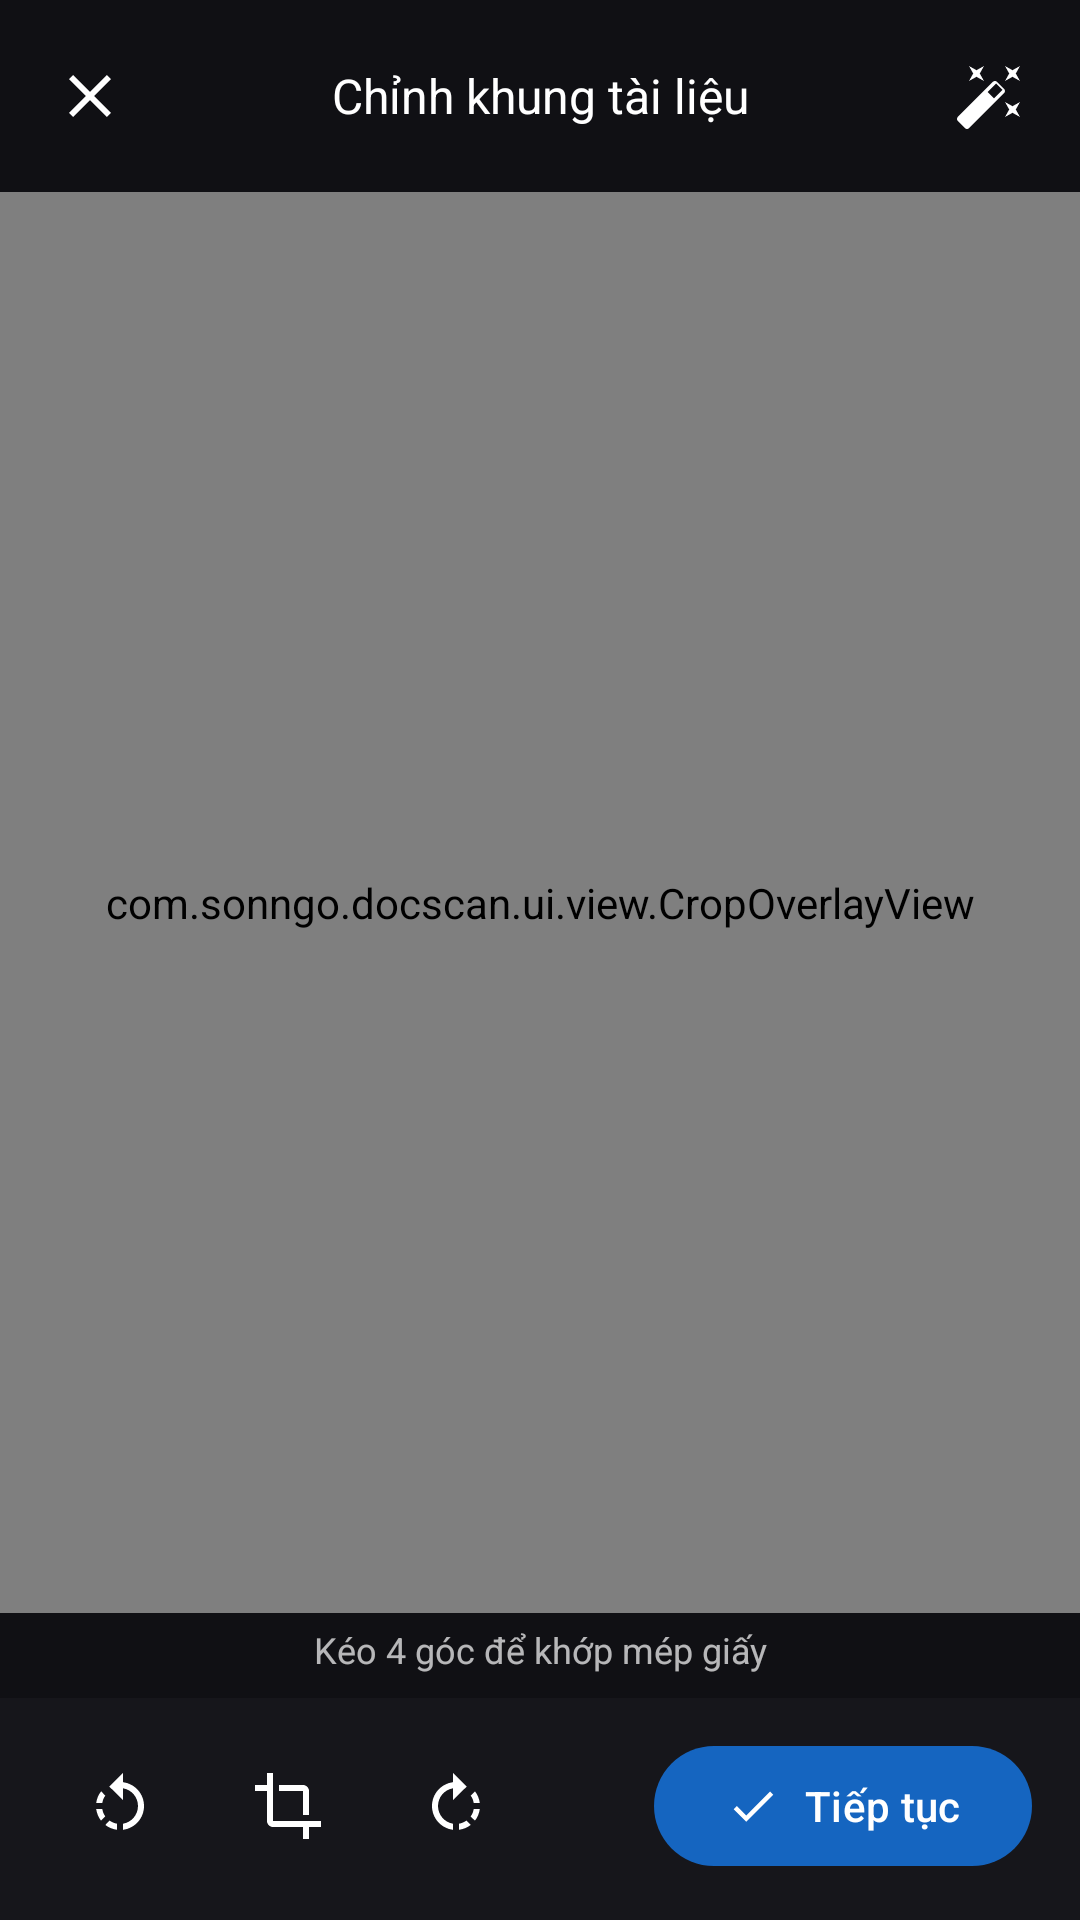

Icon bounding boxes for this 1080px×1920px phone screenshot, format (x1, y1, x2, y2):
Tự nhận diện: (957, 66, 1020, 129)
Xoay phải: (432, 1773, 480, 1830)
Xoay trái: (96, 1773, 144, 1830)
Đóng: (69, 75, 111, 117)
